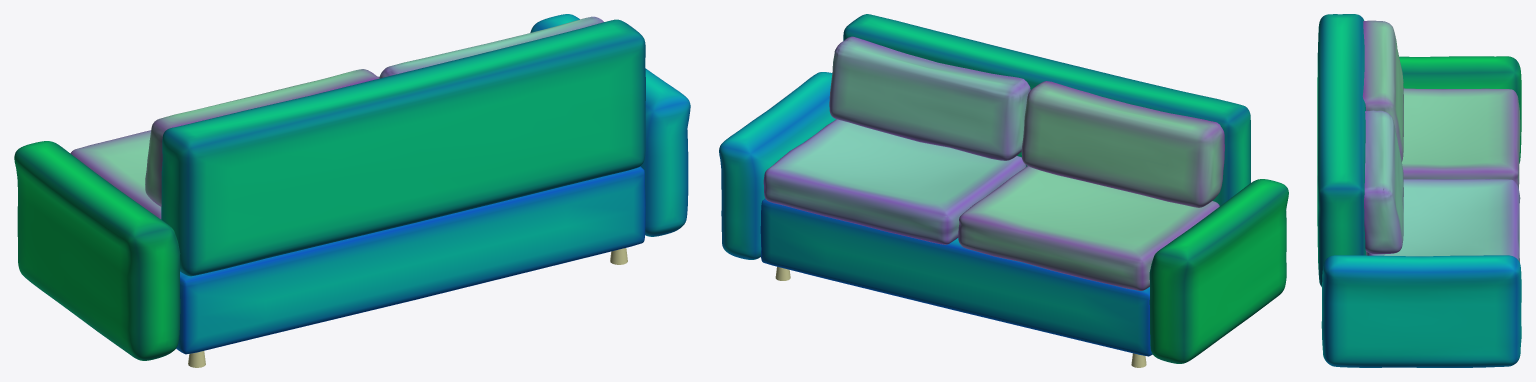
File: Sofa.fbx
3 renders of one model, left to right at view 1: azimuth 30°, elevation 25°; view 2: azimuth 150°, elevation 25°; view 3: azimuth 270°, elevation 25°, orthographic. The views are drawn at different scales.
Parts seen in each view (by area): view 1: Sofa; view 2: Sofa; view 3: Sofa.
Part boxes in pixels (<box>): Sofa: <box>14,14,690,367</box>; Sofa: <box>719,14,1288,367</box>; Sofa: <box>1317,14,1521,367</box>.
Size of the model in its own units: 2.3 by 0.8928 by 0.922.
